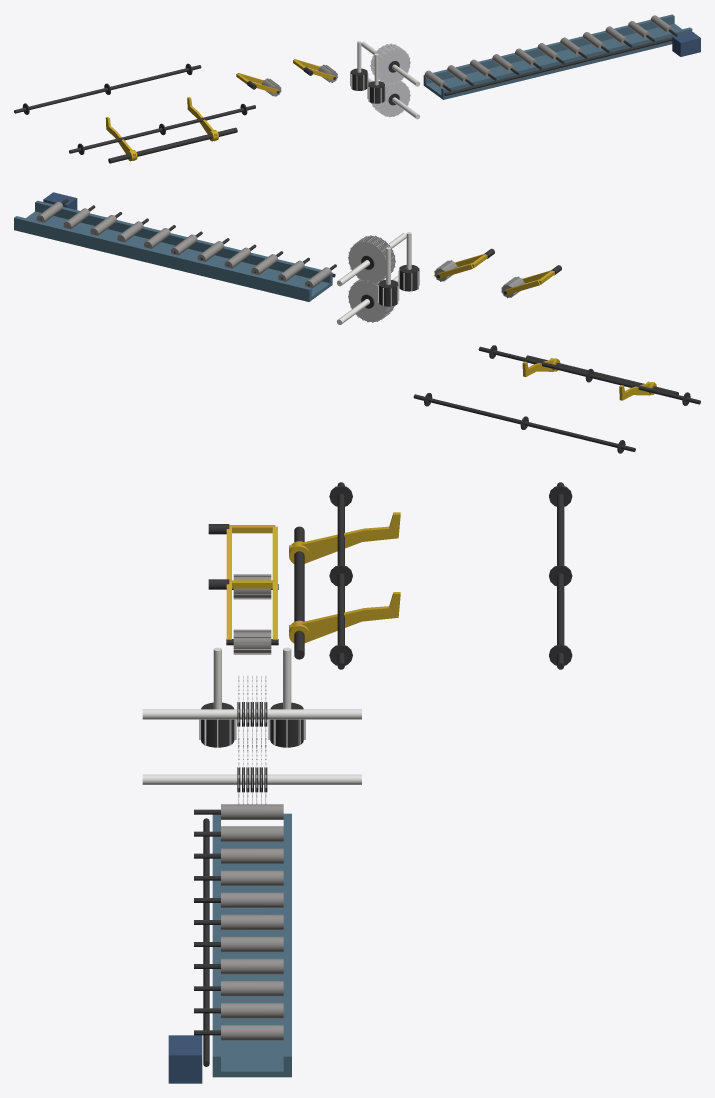
File: gang_resaw_parts.glb
3 renders of one model, top to bottom at view 1: azimuth 30°, elevation 25°; view 2: azimuth 150°, elevation 25°; view 3: azimuth 270°, elevation 25°, orthographic. The views are drawn at different scales.
Visible parts, largest first — view 1: GR_LiftMesh, GR_TopArborMesh, GR_TurnerMesh, GR_BottomArborMesh, GR_TransferTailMesh, GR_TransferHeadMesh, GR_ChipHeadFarMesh, GR_ChipHeadNearMesh, GR_Press1Mesh, GR_Press2Mesh; view 2: GR_LiftMesh, GR_TopArborMesh, GR_BottomArborMesh, GR_TransferTailMesh, GR_TransferHeadMesh, GR_TurnerMesh, GR_ChipHeadFarMesh, GR_ChipHeadNearMesh, GR_Press1Mesh, GR_Press2Mesh; view 3: GR_LiftMesh, GR_TurnerMesh, GR_TopArborMesh, GR_BottomArborMesh, GR_TransferTailMesh, GR_TransferHeadMesh, GR_ChipHeadNearMesh, GR_ChipHeadFarMesh, GR_Press2Mesh, GR_Press1Mesh, GR_ORoll5Mesh, GR_ORoll6Mesh (+10 smaller).
Boxes of the visible parts, x1,y1,x2,y2 form: GR_LiftMesh: (423,14,700,99); GR_TopArborMesh: (361,41,420,86); GR_TurnerMesh: (105,97,237,163); GR_BottomArborMesh: (368,78,420,119); GR_TransferTailMesh: (14,63,201,114); GR_TransferHeadMesh: (69,104,255,154); GR_ChipHeadFarMesh: (367,53,385,103); GR_ChipHeadNearMesh: (350,41,368,90); GR_Press1Mesh: (236,73,278,93); GR_Press2Mesh: (293,59,335,80); GR_LiftMesh: (14,192,335,301); GR_TopArborMesh: (337,233,406,286); GR_BottomArborMesh: (336,276,398,324); GR_TransferTailMesh: (413,393,635,453); GR_TransferHeadMesh: (478,345,700,405); GR_TurnerMesh: (522,355,678,400); GR_ChipHeadFarMesh: (398,232,419,291); GR_ChipHeadNearMesh: (377,247,399,306); GR_Press1Mesh: (505,265,561,294); GR_Press2Mesh: (437,248,494,278); GR_LiftMesh: (168,813,291,1083); GR_TurnerMesh: (289,512,400,659); GR_TopArborMesh: (142,675,361,752); GR_BottomArborMesh: (142,741,361,804); GR_TransferTailMesh: (549,482,572,669); GR_TransferHeadMesh: (329,482,352,669); GR_ChipHeadNearMesh: (268,647,305,747); GR_ChipHeadFarMesh: (199,647,236,747); GR_Press2Mesh: (208,579,277,640); GR_Press1Mesh: (208,524,277,581); GR_ORoll5Mesh: (194,892,283,908); GR_ORoll6Mesh: (194,914,283,930).
Bounding box in the file's own units: 13.05 × 1.55 × 4.11.
